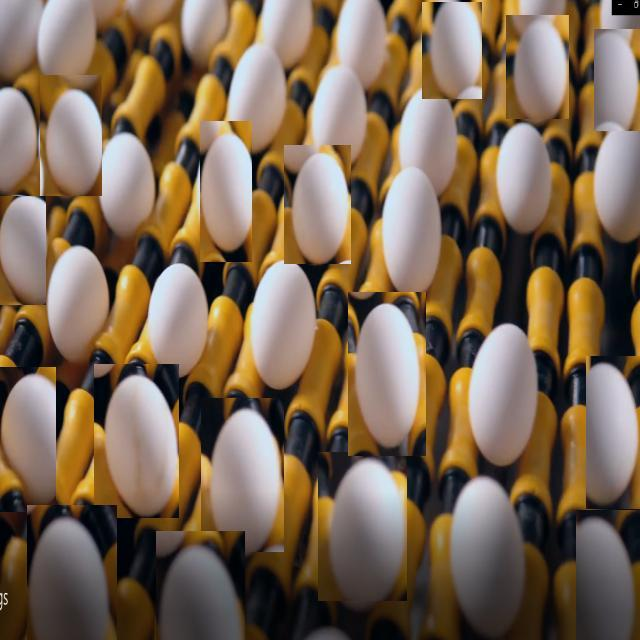Egg: (449, 466, 532, 640), (318, 452, 407, 601), (94, 364, 179, 518), (348, 293, 426, 457), (201, 398, 284, 552), (464, 314, 544, 469), (27, 505, 117, 640), (247, 262, 326, 404), (36, 231, 114, 372), (376, 158, 444, 306), (156, 531, 245, 640), (223, 36, 294, 158), (576, 510, 640, 640), (586, 356, 640, 509), (147, 249, 210, 380), (494, 119, 562, 239), (0, 367, 56, 512), (96, 114, 162, 236), (284, 145, 351, 264), (396, 79, 464, 191), (40, 75, 102, 196), (200, 121, 252, 262), (306, 59, 372, 168), (589, 116, 640, 249), (506, 15, 569, 120), (422, 2, 482, 99), (38, 1, 100, 90), (0, 196, 46, 305), (594, 30, 640, 132)
